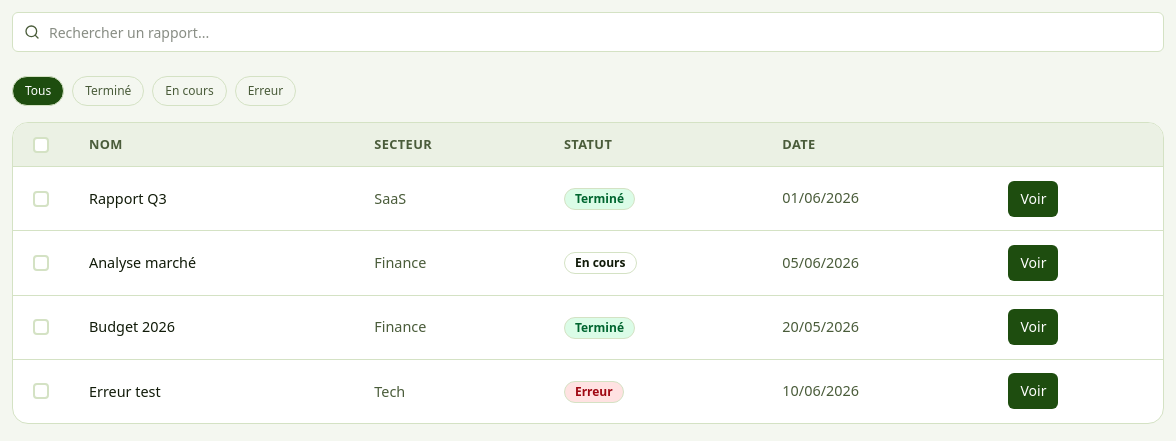
Test: ReportsFilter › filters by status pill — ERROR
This screenshot has width=1176, height=441.
Click the button "Erreur" at (265, 91), box [235, 76, 296, 106]
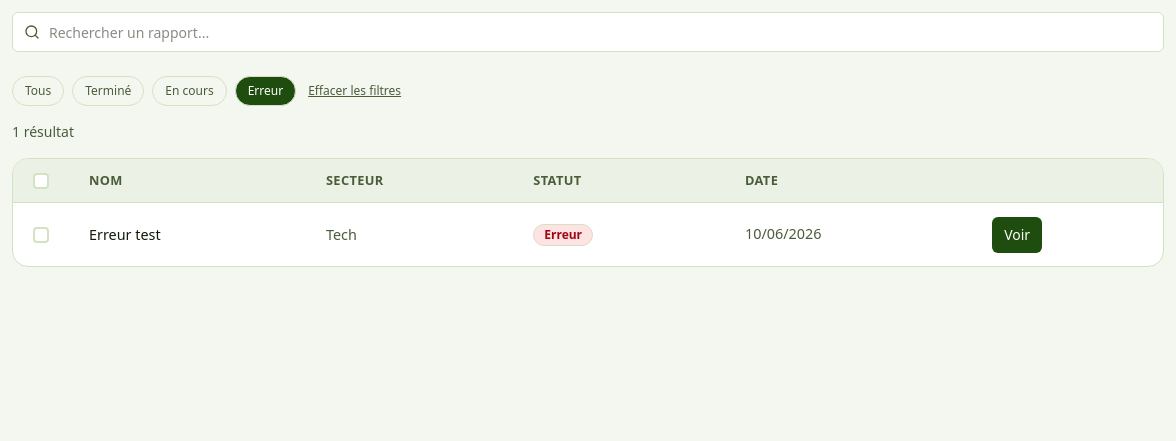
Expected: the text "Erreur test" is shown, [69, 203, 306, 266]
Now the text "Rapport Q3" is gone
